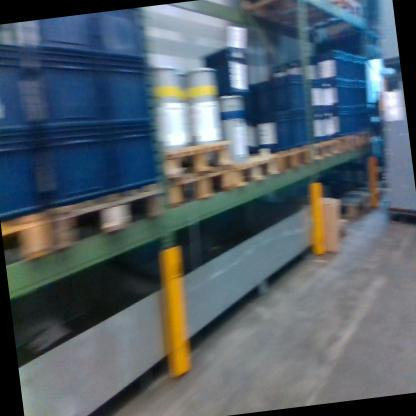pallet: (49, 177, 171, 256), (245, 0, 365, 54), (158, 162, 234, 219), (3, 205, 60, 271), (157, 140, 235, 185), (219, 156, 279, 189), (322, 189, 376, 225), (269, 147, 308, 184), (302, 136, 337, 166)
small_load_carrier: (23, 45, 109, 145), (31, 112, 116, 201), (96, 51, 159, 142), (0, 131, 45, 225), (0, 42, 38, 145), (27, 14, 101, 66), (104, 124, 164, 187), (204, 37, 253, 103), (98, 9, 151, 63), (239, 77, 278, 123), (269, 73, 307, 114), (251, 114, 290, 153), (317, 74, 351, 115), (321, 104, 356, 143), (0, 23, 31, 66), (317, 50, 353, 85), (283, 114, 311, 152), (338, 108, 372, 134), (348, 51, 369, 87), (341, 80, 366, 108)
